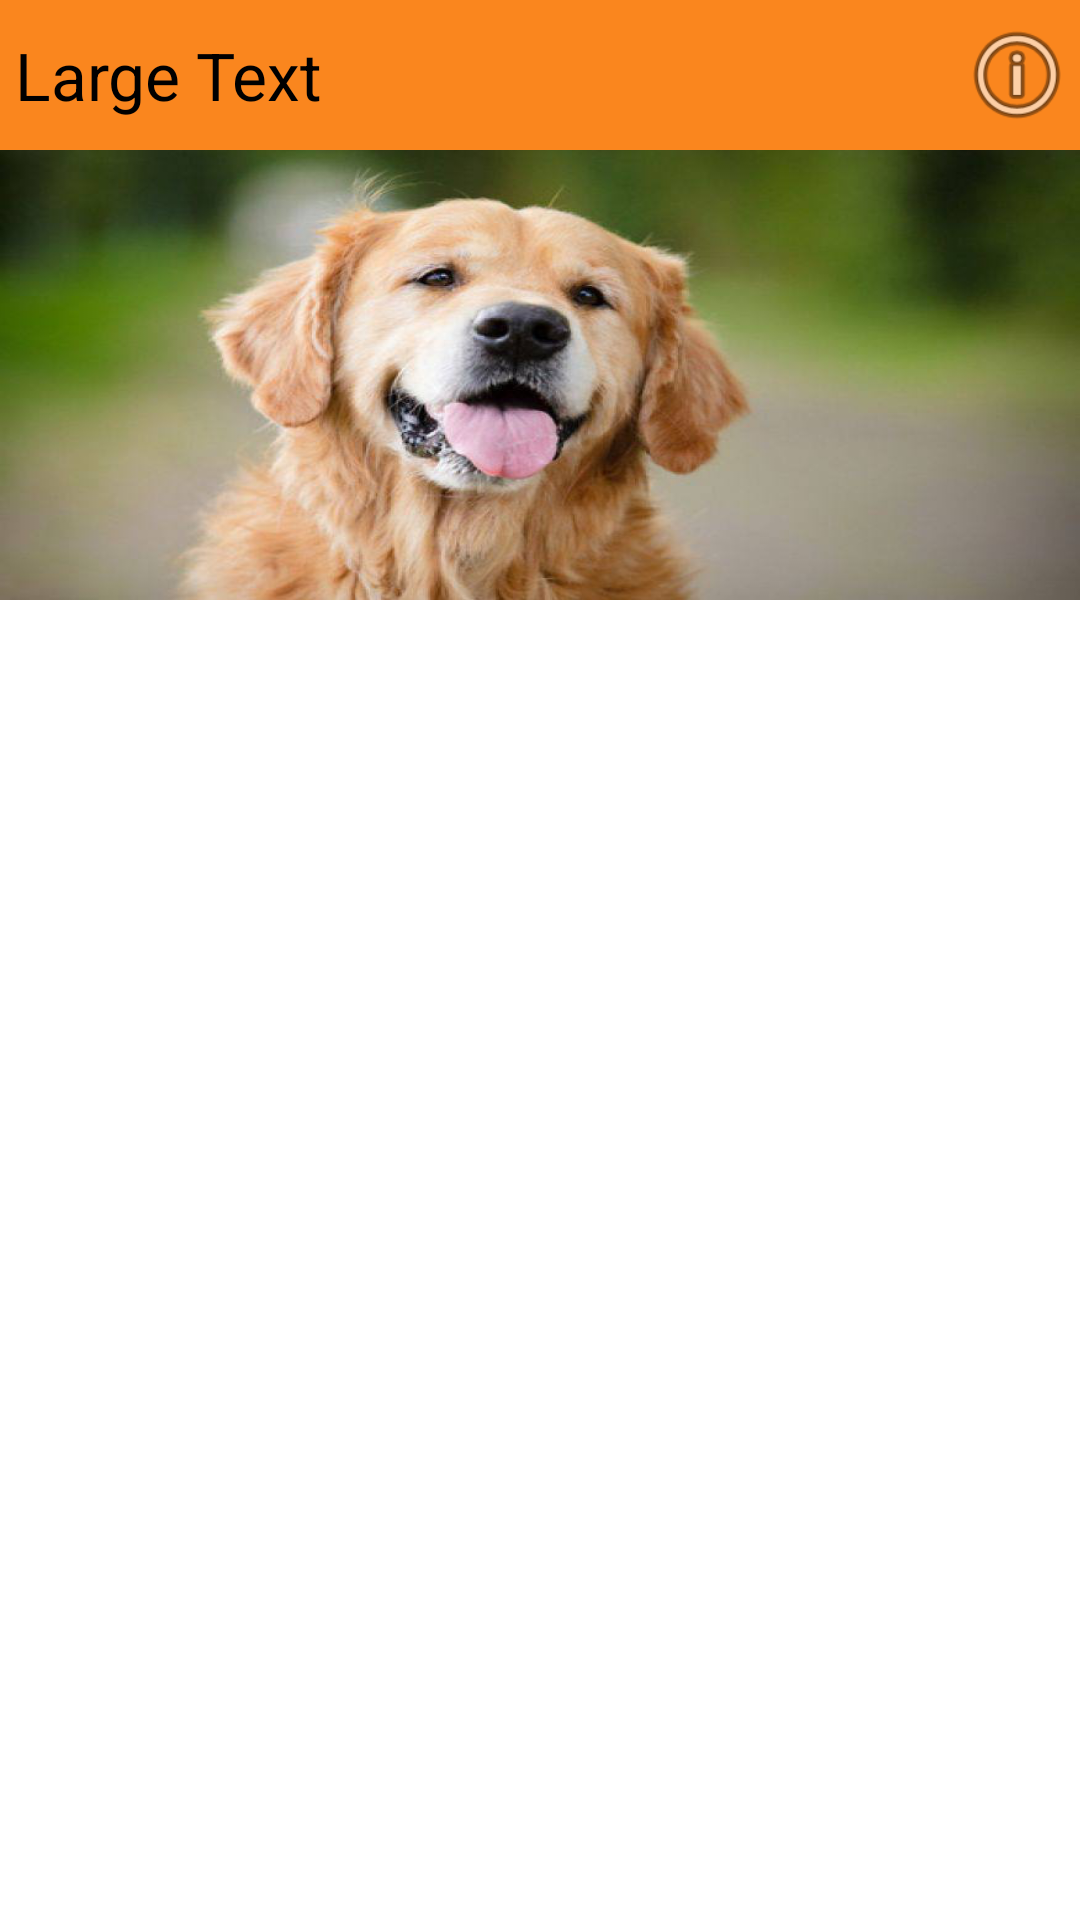

Where to tap for icons on this 1080 x 1920 app screen, as point (x, y):
info details: point (1017, 75)
